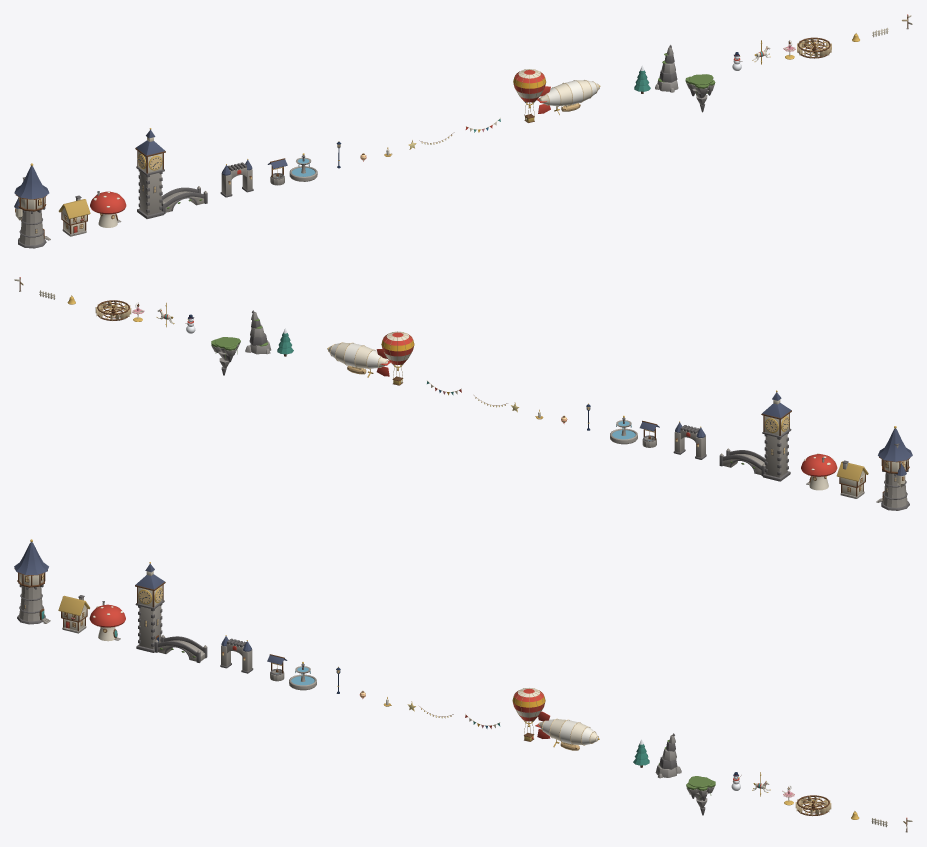
The model's file is atelier.glb.
3 views of the same model, one above another, from view 1: azimuth 30°, elevation 25°; view 2: azimuth 150°, elevation 25°; view 3: azimuth 330°, elevation 25° (orthographic).
Visible parts, largest first — view 1: wizard_tower, clock_tower, airship, balloon, toadstool_house, cottage, gate_arch, stone_bridge, rock_spire, floating_rock, waterwheel, fountain; view 2: clock_tower, wizard_tower, airship, balloon, toadstool_house, cottage, gate_arch, stone_bridge, rock_spire, floating_rock, waterwheel, fountain; view 3: wizard_tower, clock_tower, airship, balloon, toadstool_house, cottage, stone_bridge, gate_arch, rock_spire, floating_rock, waterwheel.
Part boxes in pixels (x1,y1,x2,y2): wizard_tower: (14, 163, 50, 248); clock_tower: (135, 128, 165, 218); airship: (537, 80, 600, 114); balloon: (513, 69, 546, 122); toadstool_house: (90, 191, 126, 227); cottage: (58, 195, 90, 236); gate_arch: (220, 159, 253, 197); stone_bridge: (161, 186, 207, 213); rock_spire: (655, 45, 678, 92); floating_rock: (685, 74, 715, 112); waterwheel: (797, 37, 831, 58); fountain: (289, 153, 317, 181); clock_tower: (761, 390, 791, 481); wizard_tower: (876, 426, 912, 510); airship: (327, 342, 390, 377); balloon: (381, 331, 414, 385); toadstool_house: (801, 453, 837, 490); cottage: (836, 460, 868, 498); gate_arch: (673, 421, 706, 459); stone_bridge: (719, 448, 765, 476); rock_spire: (245, 310, 271, 354); floating_rock: (211, 337, 240, 375); waterwheel: (95, 300, 131, 320); fountain: (610, 415, 637, 444); wizard_tower: (14, 539, 50, 624); clock_tower: (135, 562, 165, 652); airship: (535, 711, 599, 750); balloon: (512, 688, 545, 741); toadstool_house: (89, 601, 125, 641); cottage: (58, 595, 89, 633); stone_bridge: (154, 635, 207, 662); gate_arch: (220, 635, 253, 673); rock_spire: (655, 733, 681, 778); floating_rock: (686, 776, 715, 815); waterwheel: (795, 795, 831, 816).
Bounding box in the file's own units: 65.83 × 8.39 × 2.31.
